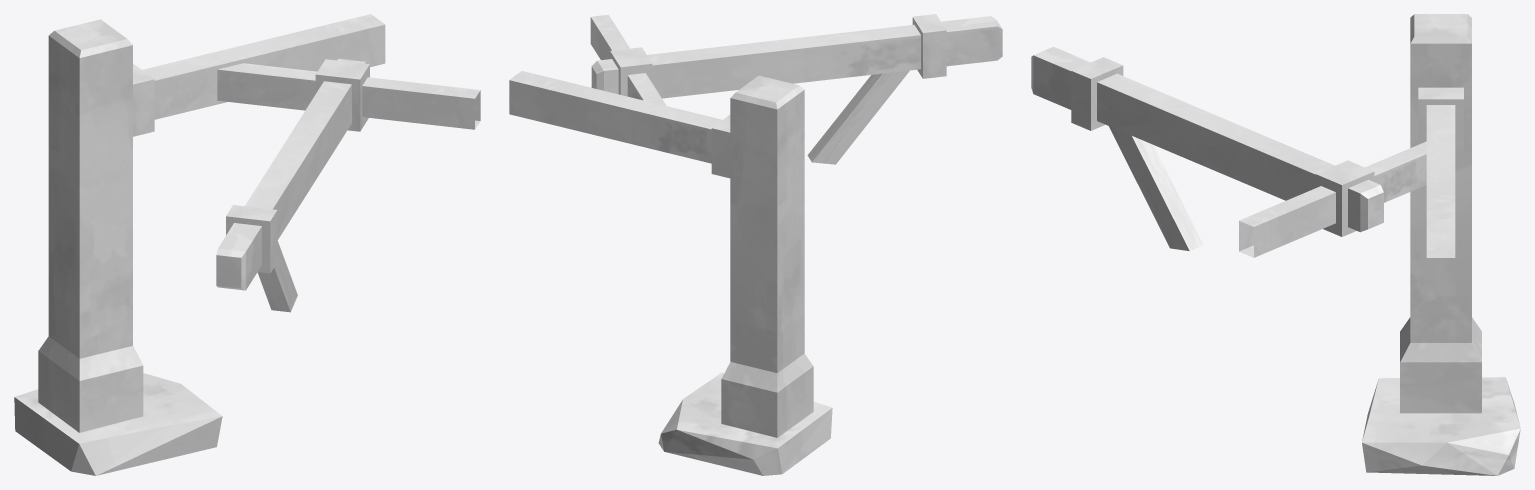
Rendered from CurvedWall_SmallWindow_support.fbx.
The picture shows the model from 3 angles, left to right: view 1: azimuth 30°, elevation 25°; view 2: azimuth 150°, elevation 25°; view 3: azimuth 270°, elevation 25°; orthographic projection. The views are drawn at different scales.
Visible parts, largest first — view 1: CurvedWall_SmallWindow_supportpillar, CurvedWall_SmallWindow_support1, CurvedWall_SmallWindow_support2; view 2: CurvedWall_SmallWindow_supportpillar, CurvedWall_SmallWindow_support1, CurvedWall_SmallWindow_support2; view 3: CurvedWall_SmallWindow_supportpillar, CurvedWall_SmallWindow_support1, CurvedWall_SmallWindow_support2.
Boxes of the visible parts, x1,y1,x2,y2 form: CurvedWall_SmallWindow_supportpillar: (14,19,222,475); CurvedWall_SmallWindow_support1: (216,58,480,312); CurvedWall_SmallWindow_support2: (133,14,385,136); CurvedWall_SmallWindow_supportpillar: (658,75,832,475); CurvedWall_SmallWindow_support1: (590,14,1002,164); CurvedWall_SmallWindow_support2: (509,71,730,178); CurvedWall_SmallWindow_supportpillar: (1362,14,1520,475); CurvedWall_SmallWindow_support1: (1031,46,1426,257); CurvedWall_SmallWindow_support2: (1418,87,1463,257).
Size of the model in its own units: 5.52 by 5.84 by 6.41.
